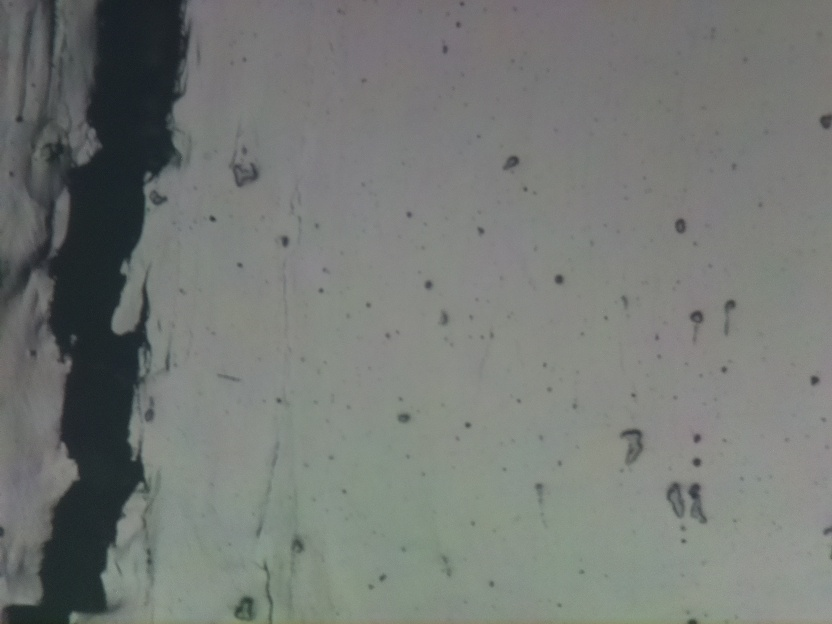crack: (0, 0, 188, 617), (41, 0, 58, 106)
